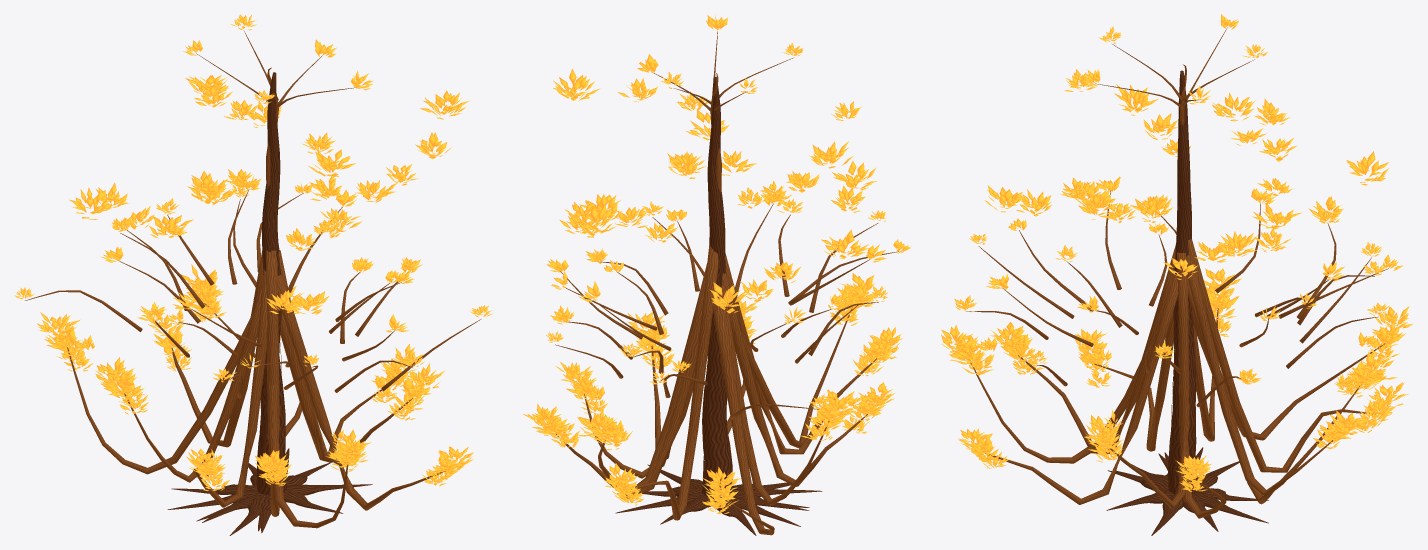
The model's file is world_tree.glb.
The picture shows the model from 3 angles, left to right: view 1: azimuth 30°, elevation 25°; view 2: azimuth 150°, elevation 25°; view 3: azimuth 270°, elevation 25°; orthographic projection.
Visible parts, largest first — view 1: WorldTree_Leaves, WorldTree_Branches, WorldTree_Bark; view 2: WorldTree_Leaves, WorldTree_Branches, WorldTree_Bark; view 3: WorldTree_Leaves, WorldTree_Branches, WorldTree_Bark.
Boxes of the visible parts, x1,y1,x2,y2 form: WorldTree_Leaves: [14, 14, 492, 490]; WorldTree_Branches: [25, 31, 481, 528]; WorldTree_Bark: [167, 72, 372, 535]; WorldTree_Leaves: [523, 14, 911, 514]; WorldTree_Branches: [555, 31, 898, 535]; WorldTree_Bark: [615, 77, 822, 535]; WorldTree_Leaves: [941, 14, 1412, 491]; WorldTree_Branches: [966, 27, 1388, 518]; WorldTree_Bark: [1106, 70, 1268, 535].
Bounding box in the file's own units: 207 × 247 × 233.
Materials: 4 (3 with a texture image).
